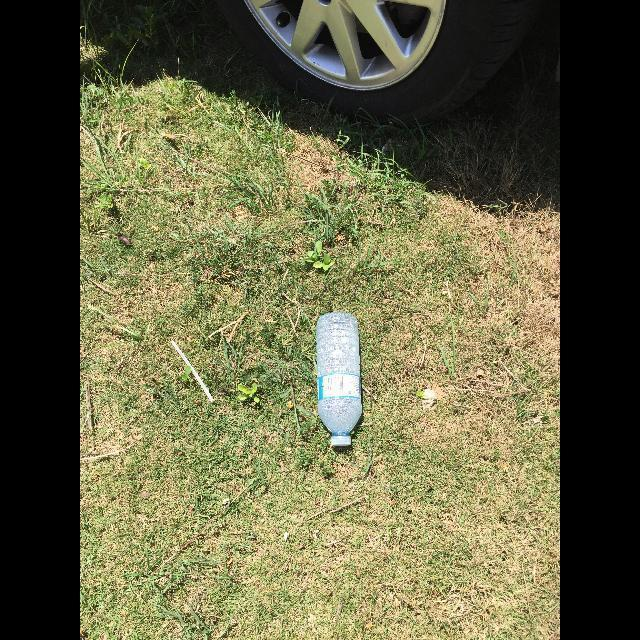Plastic: (316, 312, 362, 446), (170, 340, 213, 402), (332, 438, 351, 446)
